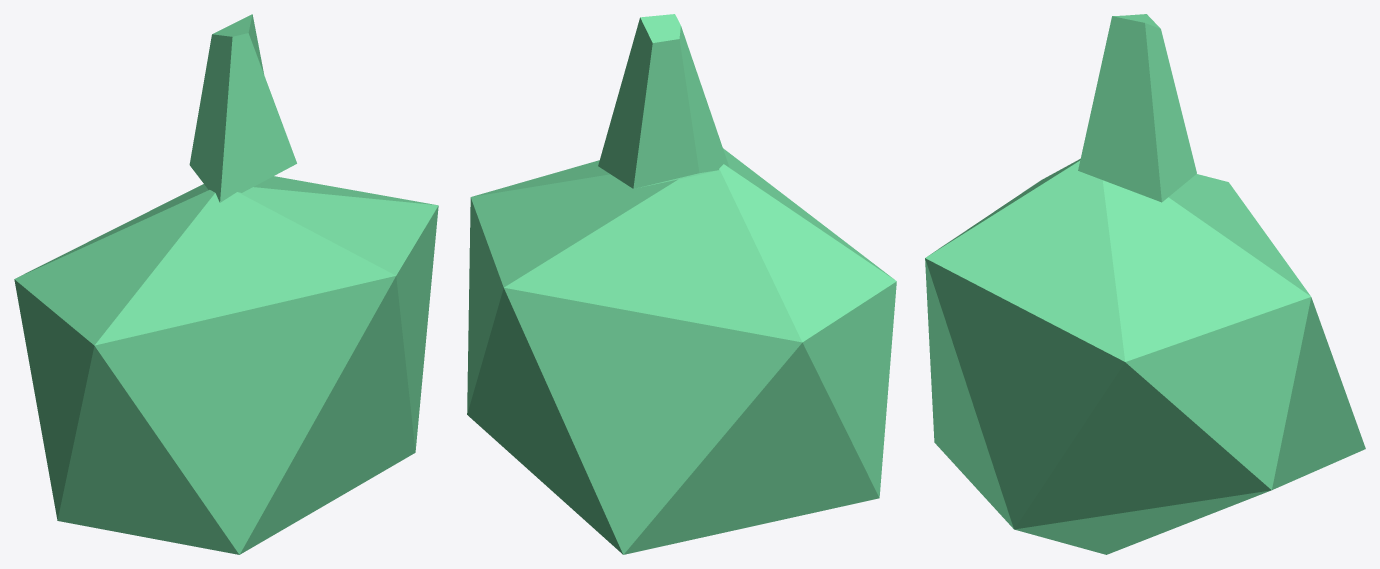
File: Basura_Plastico_Bolsa.fbx
3 renders of one model, left to right at view 1: azimuth 30°, elevation 25°; view 2: azimuth 150°, elevation 25°; view 3: azimuth 270°, elevation 25°, orthographic. The views are drawn at different scales.
Parts seen in each view (by area): view 1: Basura_Plastico_Bolsa; view 2: Basura_Plastico_Bolsa; view 3: Basura_Plastico_Bolsa.
Part boxes in pixels (box(x1,y1,x2,y2)): Basura_Plastico_Bolsa: box(14, 14, 438, 554); Basura_Plastico_Bolsa: box(467, 14, 896, 554); Basura_Plastico_Bolsa: box(925, 14, 1365, 554).
Bounding box in the file's own units: 0.9273 × 1.15 × 0.8344.
1 material, 1 textured.
